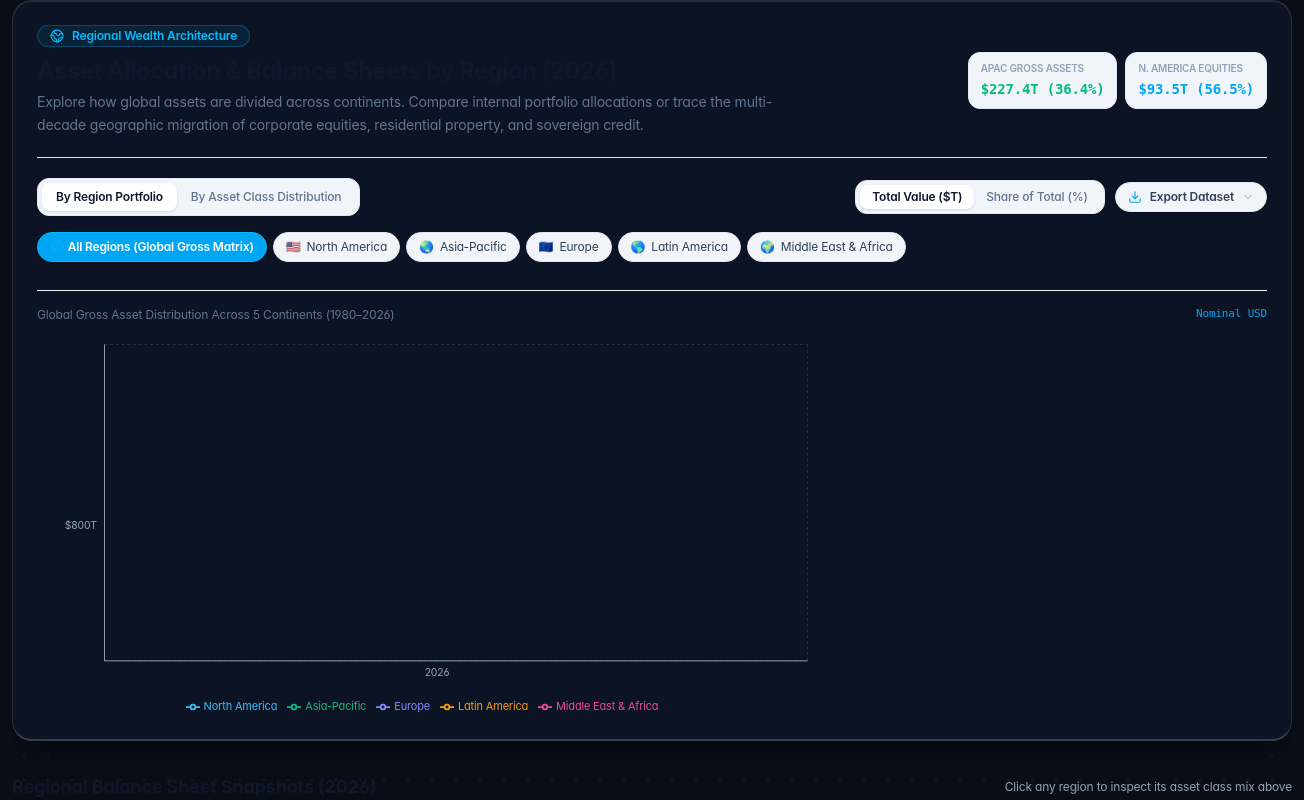
Scenario: RegionalAssetBreakdown Component › allows toggling between By Region and By Asset Class modes
This screenshot has width=1304, height=800.
What coordinates should you click on to do the following:
click the button "By Asset Class Distribution"
I would click on:
 (266, 196)
Its box is [177,182,355,210].
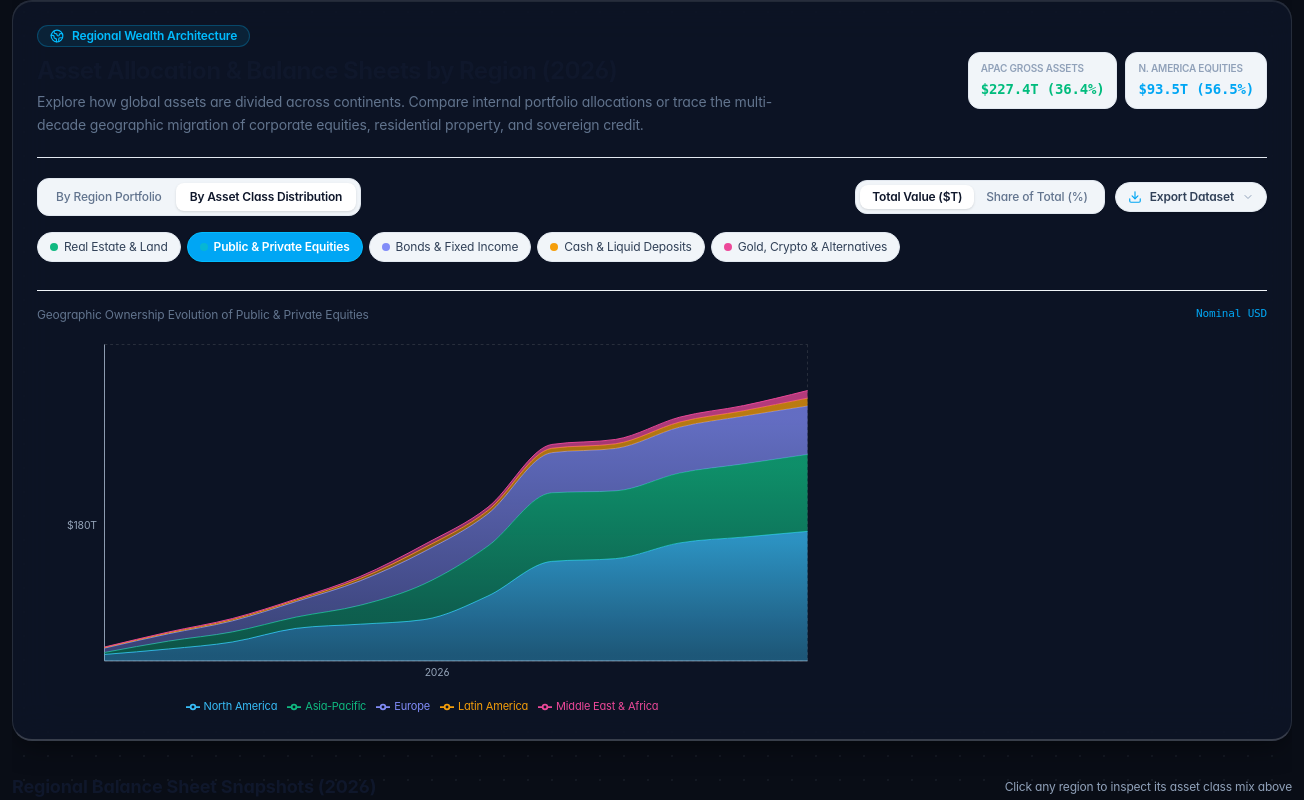
Expected: the button "Public & Private Equities" is shown, [187,232,363,262]
Expected: the button "Real Estate & Land" is shown, [37,232,181,262]
Expected: the button "Bonds & Fixed Income" is shown, [369,232,531,262]
